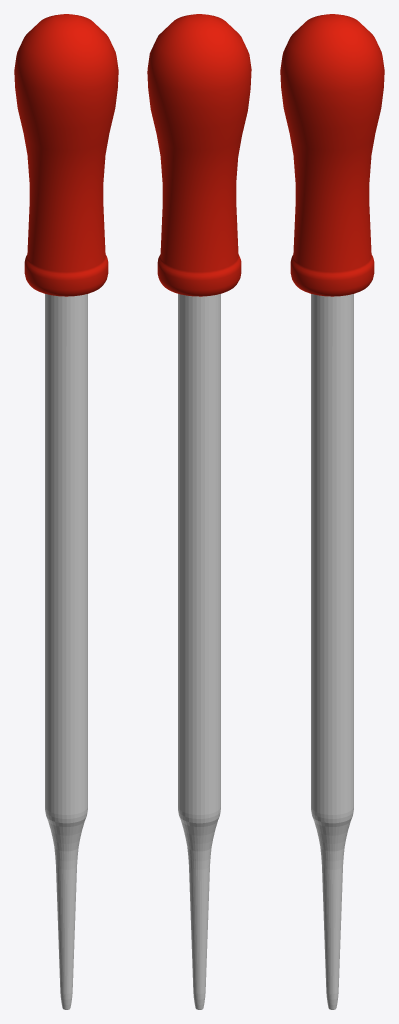
File: glass dropper.glb
3 views of the same model, side by side, from view 1: azimuth 90°, elevation 25°; view 2: azimuth 150°, elevation 25°; view 3: azimuth 270°, elevation 25° (orthographic).
Parts seen in each view (by area): view 1: dropper, rubber_head; view 2: dropper, rubber_head; view 3: dropper, rubber_head.
Part boxes in pixels (x1,y1,x2,y2): dropper: (45,294,87,1009); rubber_head: (14,14,118,296); dropper: (178,294,220,1009); rubber_head: (147,14,251,296); dropper: (311,294,353,1009); rubber_head: (280,14,384,296).
Size of the model in its own units: 0.1205 by 1.26 by 0.1205.
